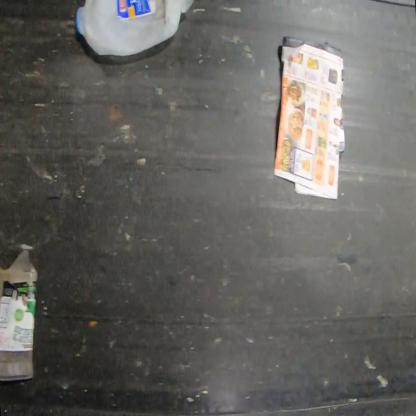rigid_plastic: (75, 0, 195, 56), (0, 250, 38, 382)
